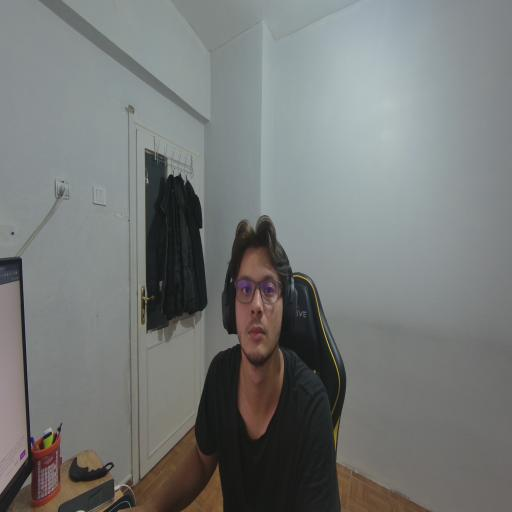cuma-face-v2: (215, 213, 308, 368)
